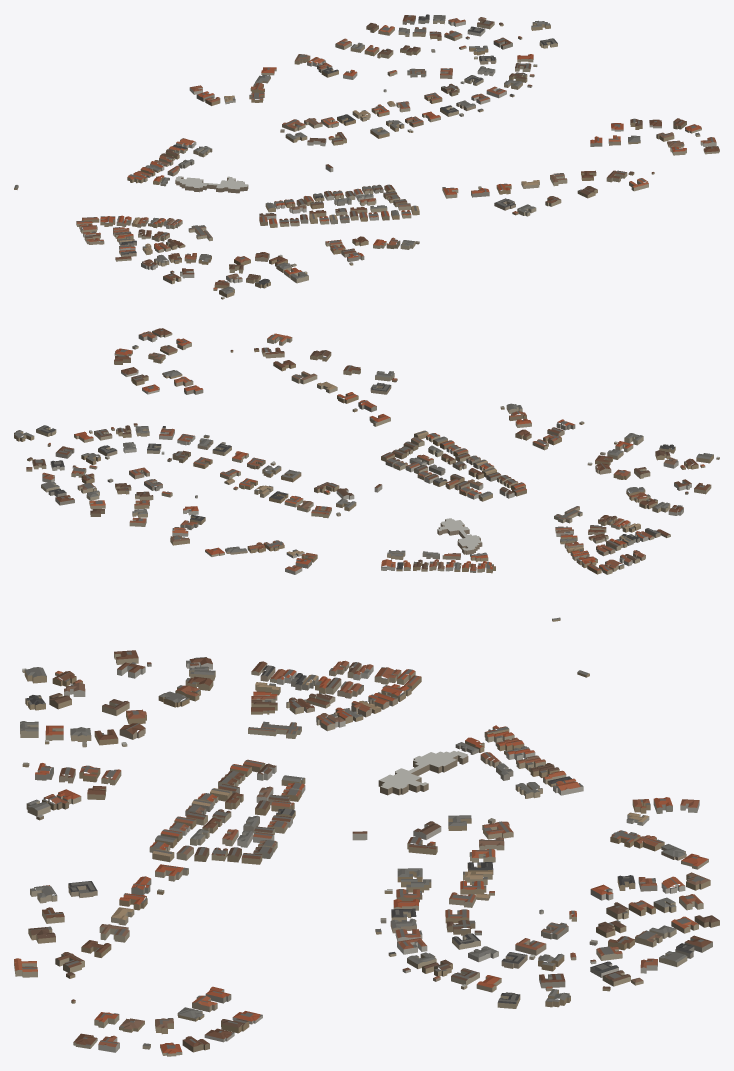
3 renders of one model, top to bottom at view 1: azimuth 30°, elevation 25°; view 2: azimuth 150°, elevation 25°; view 3: azimuth 270°, elevation 25°, orthographic. The views are drawn at different scales.
Parts seen in each view (by area): view 1: buildings_r1_c1_lod1; view 2: buildings_r1_c1_lod1; view 3: buildings_r1_c1_lod1.
Part boxes in pixels (x1,y1,x2,y2): buildings_r1_c1_lod1: (14, 14, 719, 299); buildings_r1_c1_lod1: (14, 328, 719, 621); buildings_r1_c1_lod1: (14, 650, 719, 1056).
Size of the model in its own units: 1150 by 89.97 by 812.
